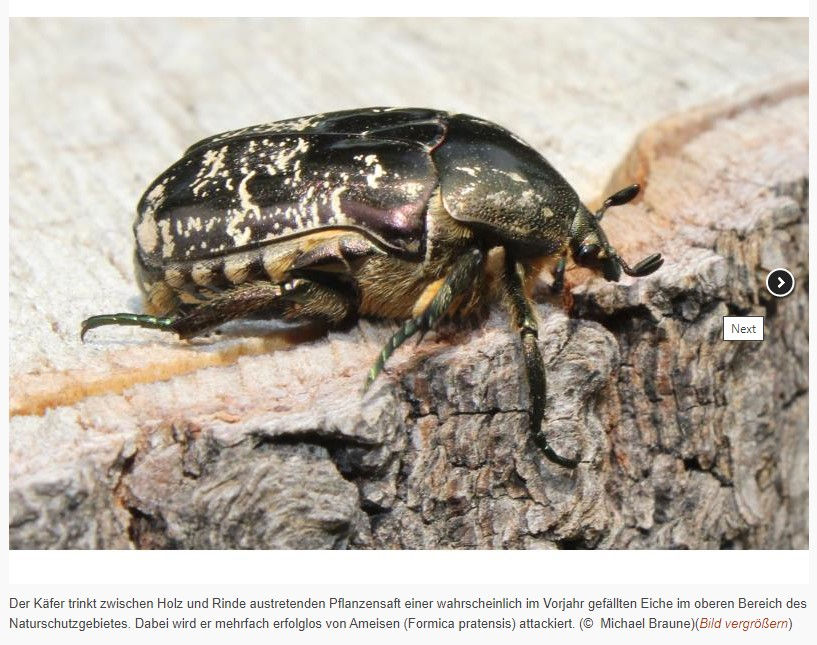Protaetia_lugubris: (76, 90, 672, 473)
